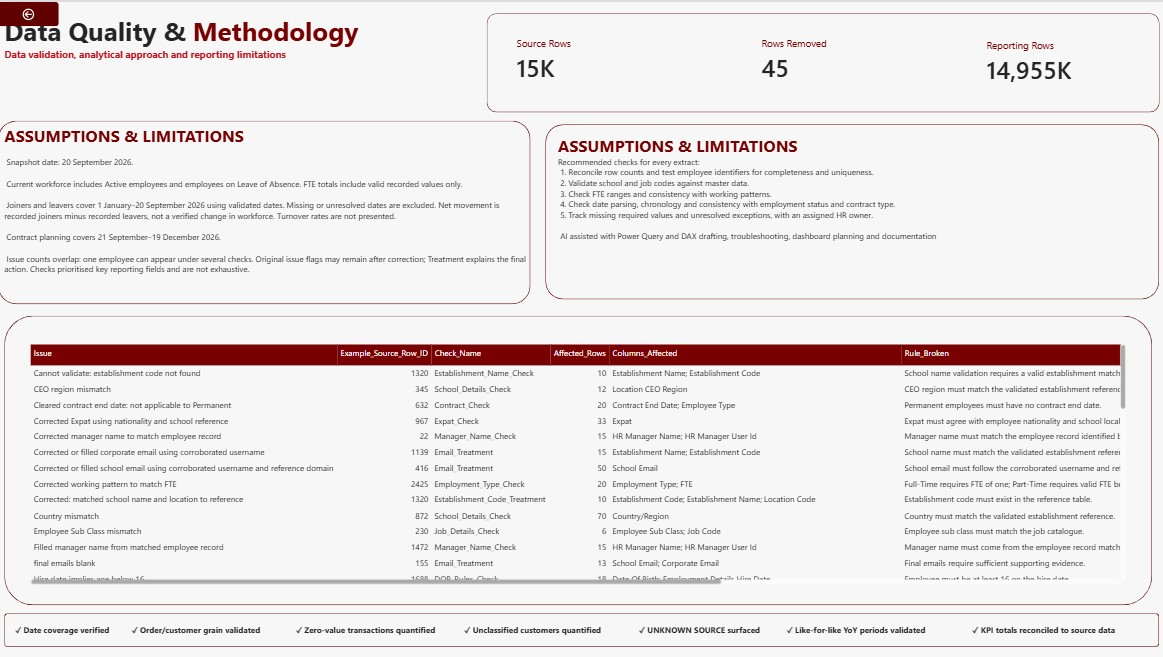

The dashboard page shown, as its layout file describes it:
{"tool":"powerbi","page":{"name":"Data Quality & Methodology","canvas":[1920,1080],"ordinal":4},"visuals":[{"type":"shape","box":[10.8,1006.2,1901.5,55.5],"z":0},{"type":"shape","box":[902.3,202.3,1010.2,287.8],"z":1000},{"type":"shape","box":[804.4,18.5,1107.9,163.3],"z":2000},{"type":"shape","box":[0,195.7,876.8,302],"z":7000},{"type":"textbox","box":[24.7,1006.2,1866.1,41.6],"z":8000},{"type":"textbox","box":[10.5,18,646,116.9],"z":10000},{"type":"shape","box":[10.5,517.1,1890,476.6],"z":11000},{"type":"textbox","box":[10.8,201.9,866,277.4],"z":17000},{"type":"textbox","box":[921.8,218.8,969.7,244.3],"z":17001},{"type":"cardVisual","fields":{"Data":["Employees_Reporting.Source Rows"]},"box":[837.8,31.5,289.3,130.4],"z":17002},{"type":"cardVisual","fields":{"Data":["Employees_Reporting.Rows Removed"]},"box":[1241,31.5,289.3,130.4],"z":17003},{"type":"cardVisual","fields":{"Data":["Employees_Reporting.Reporting Rows"]},"box":[1611.2,34.5,289.3,130.4],"z":17004},{"type":"tableEx","fields":{"Values":["Issue_Log_Final.Issue","Issue_Log_Final.Example_Source_Row_ID","Issue_Log_Final.Check_Name","Issue_Log_Final.Affected_Rows","Issue_Log_Final.Columns_Affected","Issue_Log_Final.Column1","Issue_Log_Final.Column2","Issue_Log_Final.Column3"]},"box":[37.5,550.1,1836.1,425.7],"z":17005},{"type":"actionButton","box":[0,0,100,40],"z":17006}]}

Visuals, with their boxes in screenshot pixels (x1, y1, x2, y2), scaled from the page's 1920x1080 canvas onto the 1163x657 screenshot:
shape: l=7, t=612, r=1158, b=646
shape: l=547, t=123, r=1158, b=298
shape: l=487, t=11, r=1158, b=111
shape: l=0, t=119, r=531, b=303
textbox: l=15, t=612, r=1145, b=637
textbox: l=6, t=11, r=398, b=82
shape: l=6, t=315, r=1151, b=605
textbox: l=7, t=123, r=531, b=292
textbox: l=558, t=133, r=1146, b=282
cardVisual - Employees_Reporting.Source Rows: l=507, t=19, r=683, b=98
cardVisual - Employees_Reporting.Rows Removed: l=752, t=19, r=927, b=98
cardVisual - Employees_Reporting.Reporting Rows: l=976, t=21, r=1151, b=100
tableEx - Issue_Log_Final.Issue x Issue_Log_Final.Example_Source_Row_ID: l=23, t=335, r=1135, b=594
actionButton: l=0, t=0, r=61, b=24
